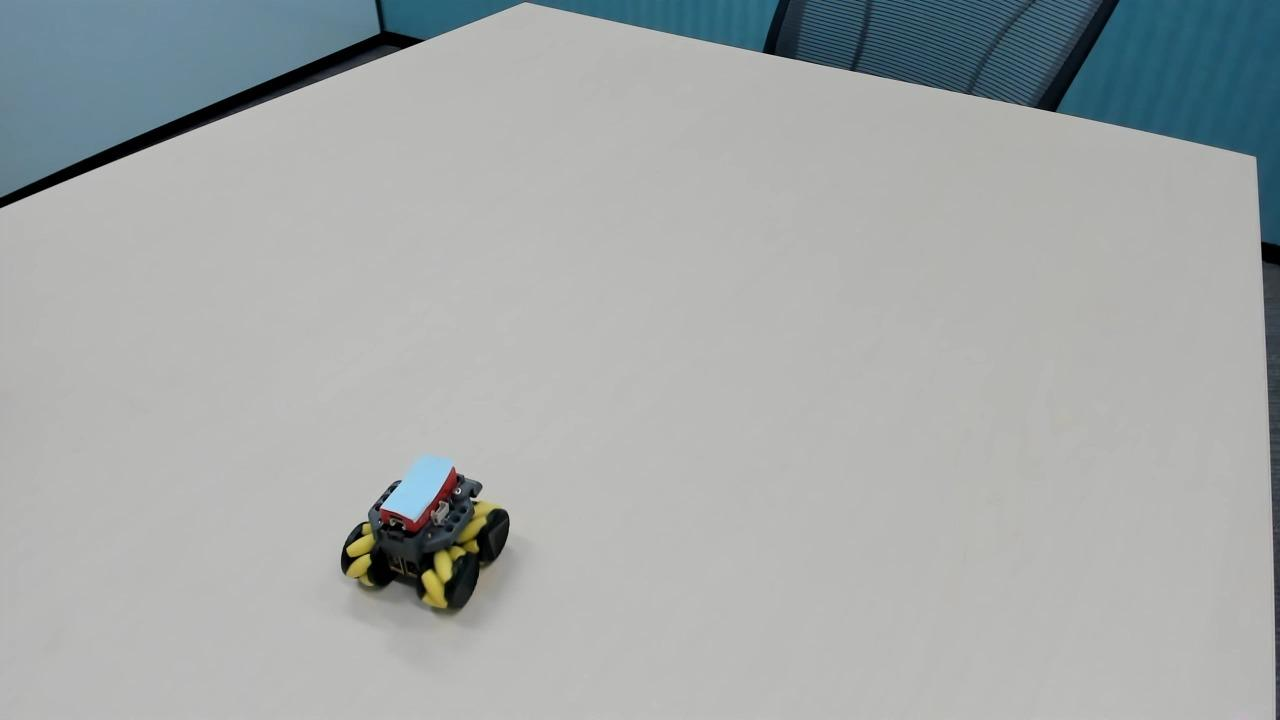B-Robot: (326, 445, 528, 625)
